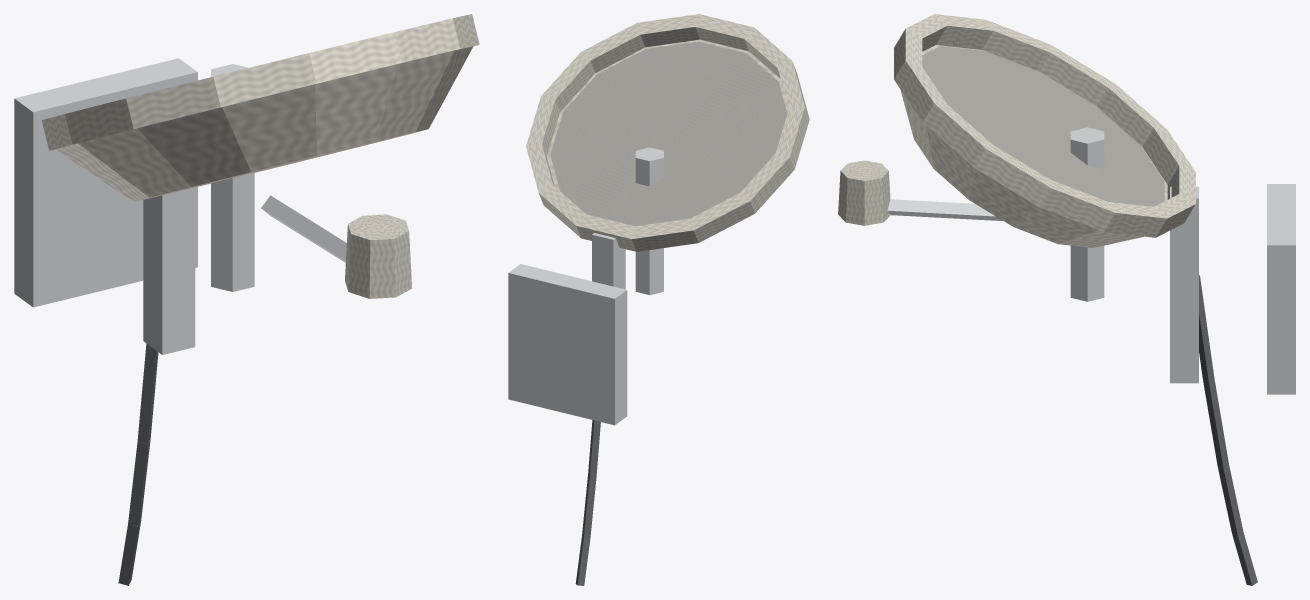
File: dish.glb
3 views of the same model, side by side, from view 1: azimuth 30°, elevation 25°; view 2: azimuth 150°, elevation 25°; view 3: azimuth 270°, elevation 25° (orthographic). The views are drawn at different scales.
Parts seen in each view (by area): view 1: satellite-dish-plaster, satellite-dish-steel, satellite-dish-charcoal; view 2: satellite-dish-stone, satellite-dish-steel, satellite-dish-plaster, satellite-dish-charcoal; view 3: satellite-dish-plaster, satellite-dish-stone, satellite-dish-steel, satellite-dish-charcoal.
Boxes of the visible parts, bbox=[...] form: satellite-dish-plaster: bbox=[41, 14, 479, 298]; satellite-dish-steel: bbox=[14, 58, 346, 354]; satellite-dish-charcoal: bbox=[118, 343, 158, 585]; satellite-dish-stone: bbox=[550, 41, 787, 226]; satellite-dish-steel: bbox=[508, 147, 663, 425]; satellite-dish-plaster: bbox=[526, 14, 809, 251]; satellite-dish-charcoal: bbox=[575, 420, 600, 585]; satellite-dish-plaster: bbox=[838, 14, 1195, 247]; satellite-dish-stone: bbox=[922, 46, 1164, 206]; satellite-dish-steel: bbox=[887, 127, 1295, 394]; satellite-dish-charcoal: bbox=[1199, 275, 1257, 585].
Bounding box in the file's own units: 0.7 × 1.23 × 0.945.
Materials: 4 (2 with a texture image).
